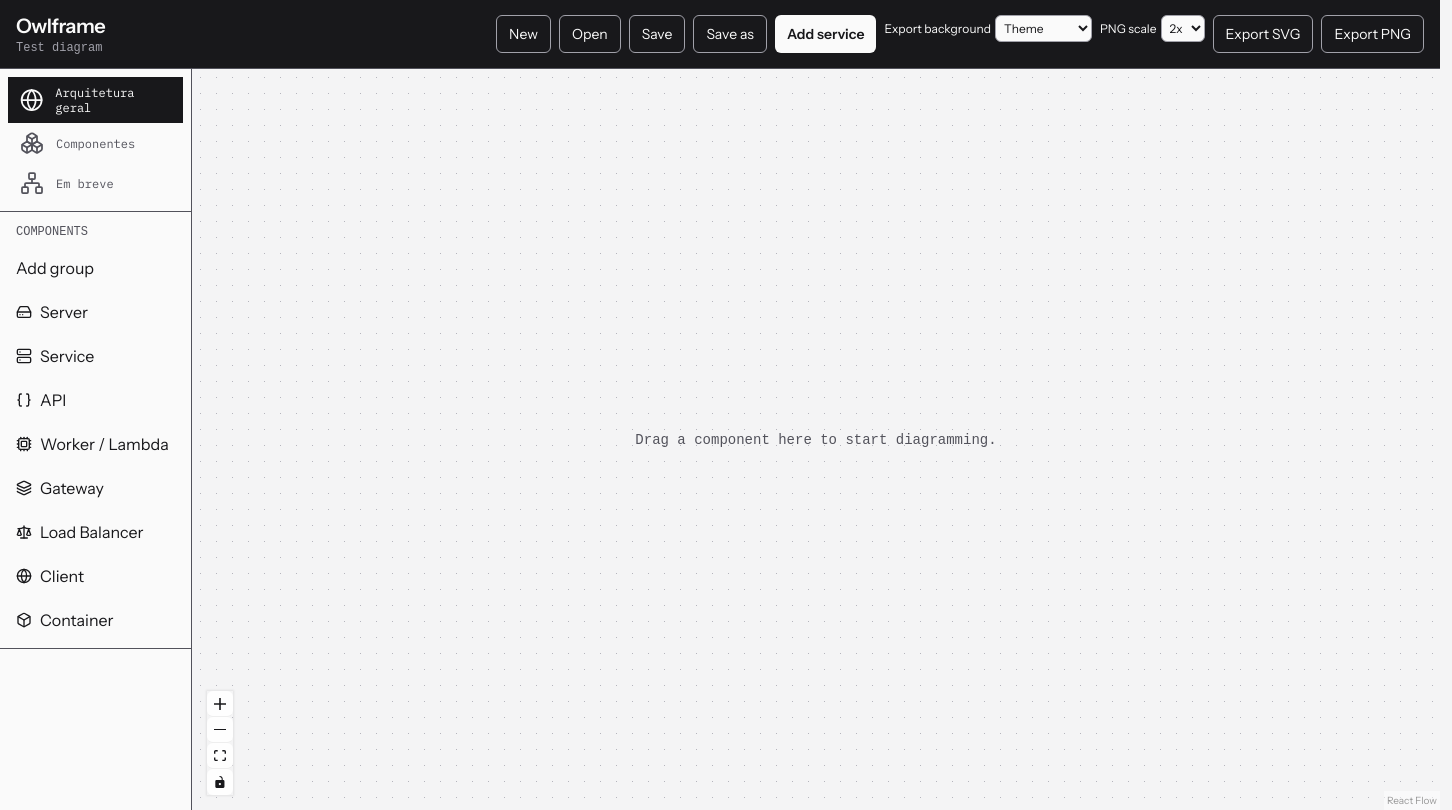
Scenario: App › shows a save failure to the user
Click the button "Save": click(657, 34) [629, 15, 685, 53]
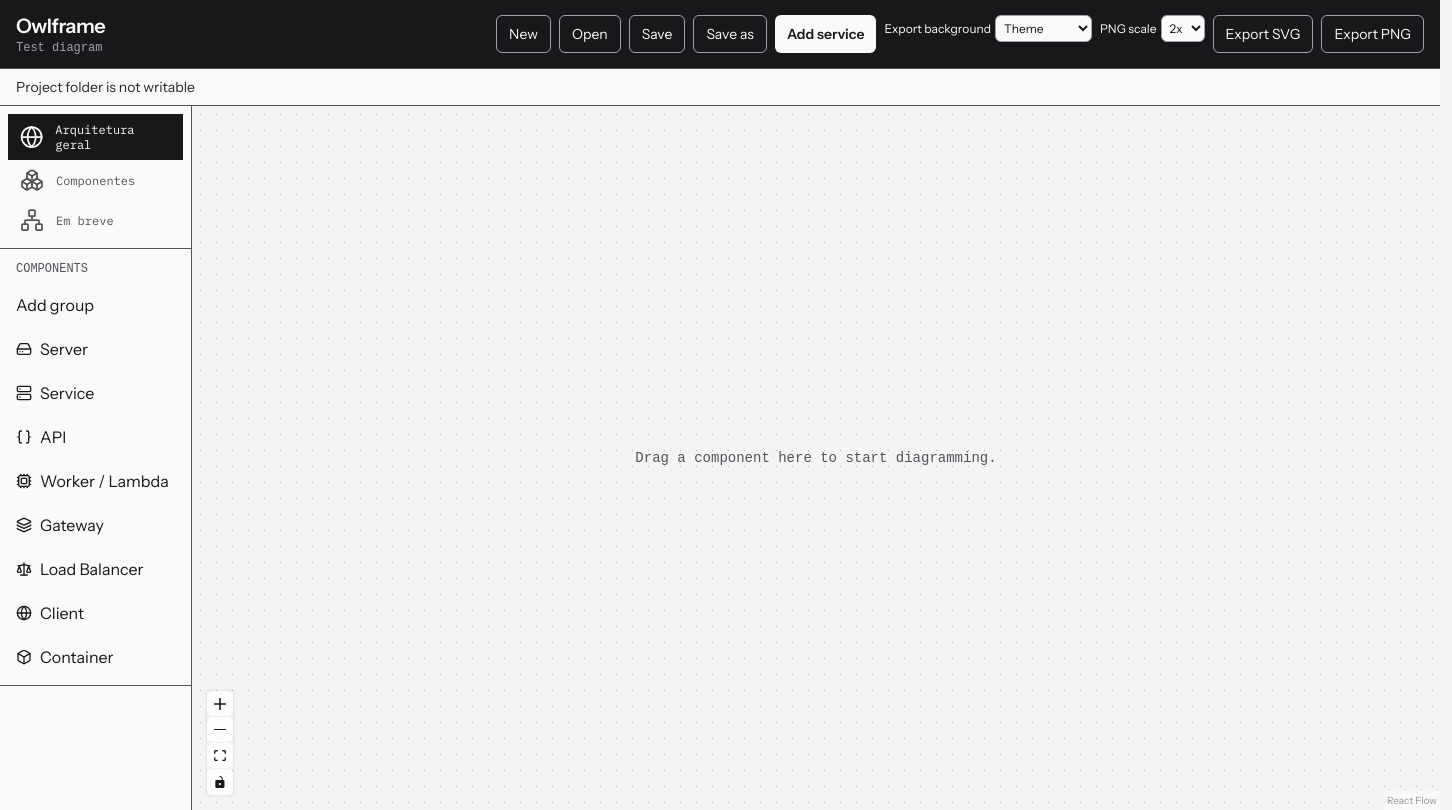
expect the message reads "Project folder is not writable": met, box [16, 78, 195, 96]
